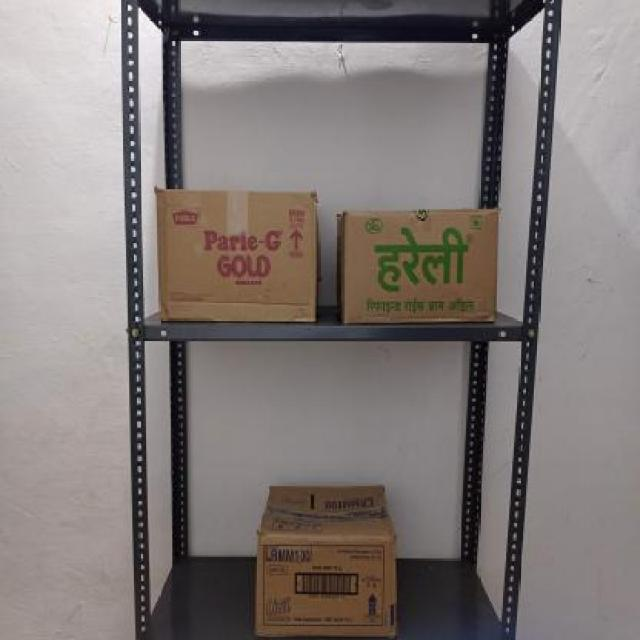box: (154, 186, 318, 322), (343, 205, 499, 328), (258, 529, 400, 637)
